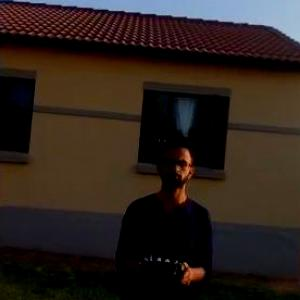follow: (111, 128, 216, 299)
